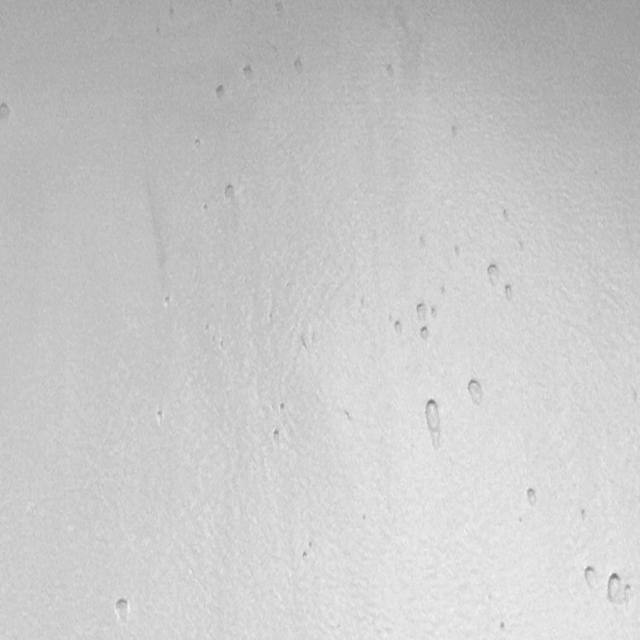pin holes: (418, 398, 447, 452), (603, 571, 622, 607), (465, 378, 487, 409), (114, 596, 136, 626), (579, 563, 599, 593), (524, 486, 544, 511), (484, 262, 503, 288), (299, 326, 319, 350), (624, 578, 637, 611), (222, 183, 240, 206), (413, 301, 431, 323), (290, 55, 308, 76), (416, 325, 433, 347), (214, 83, 231, 103), (503, 282, 517, 306), (416, 231, 432, 252), (241, 61, 256, 81), (1, 102, 14, 125), (393, 318, 407, 339), (154, 407, 168, 425), (383, 62, 396, 80), (450, 121, 461, 142), (300, 548, 314, 564), (271, 428, 284, 445), (501, 208, 514, 225), (343, 409, 354, 428), (498, 620, 511, 636), (162, 294, 175, 310), (579, 506, 591, 523), (451, 244, 463, 259), (276, 402, 288, 416), (193, 136, 205, 150), (431, 307, 442, 320), (200, 202, 211, 215)
